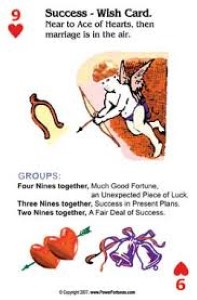NineOfHearts: (5, 1, 191, 295)
